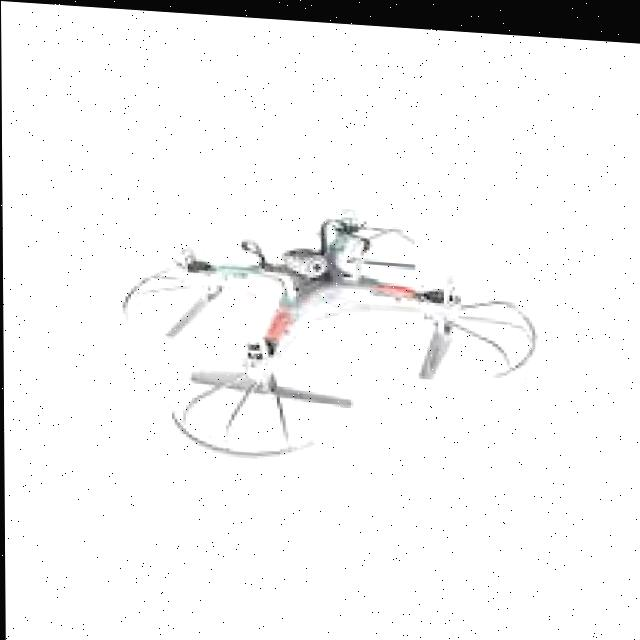drone: (89, 183, 551, 485)
